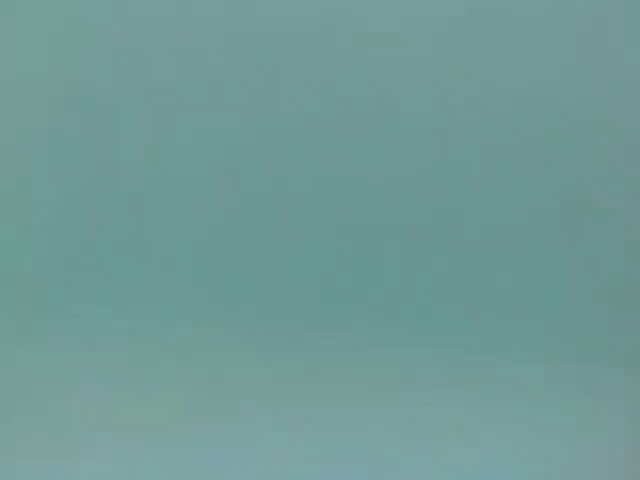flare: (627, 135, 640, 480)
